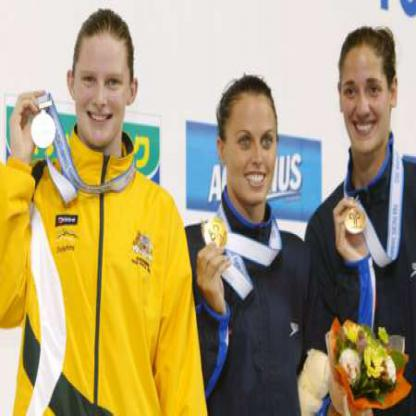face: (225, 78, 282, 207), (74, 19, 131, 147), (340, 32, 393, 155)
